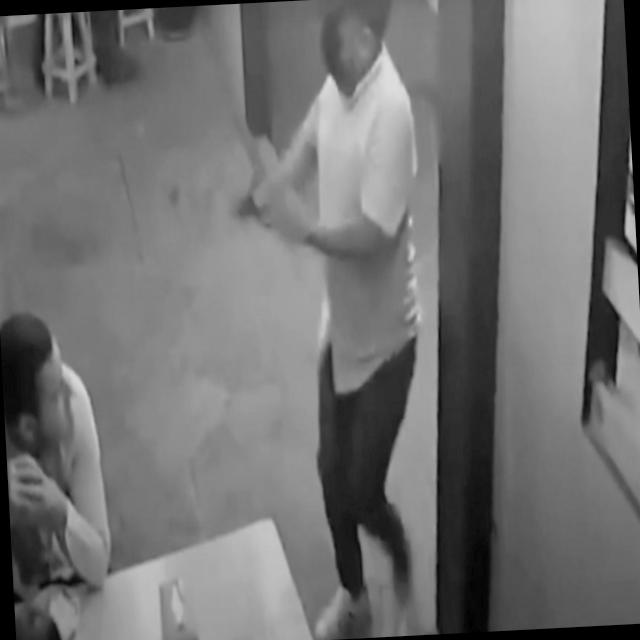gun: (232, 182, 262, 226)
